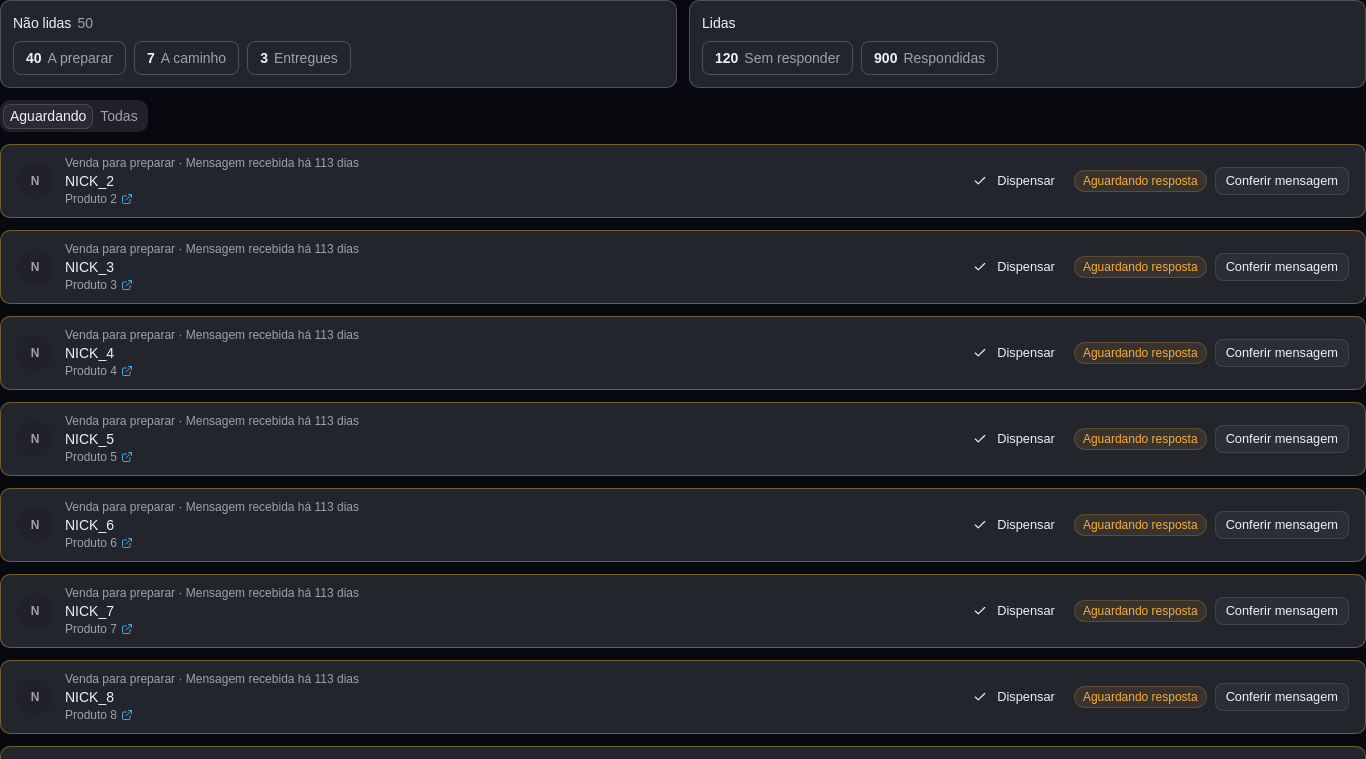
AbaMensagens › cards de resumo mostram os números do banco e filtram a lista ao clicar
Check: the text "50" is shown, box [77,15,93,31]
Check: the button "900 Respondidas" is shown, box [861,41,998,75]
Click the button "40 A preparar" at (70,58), box [13,41,126,75]
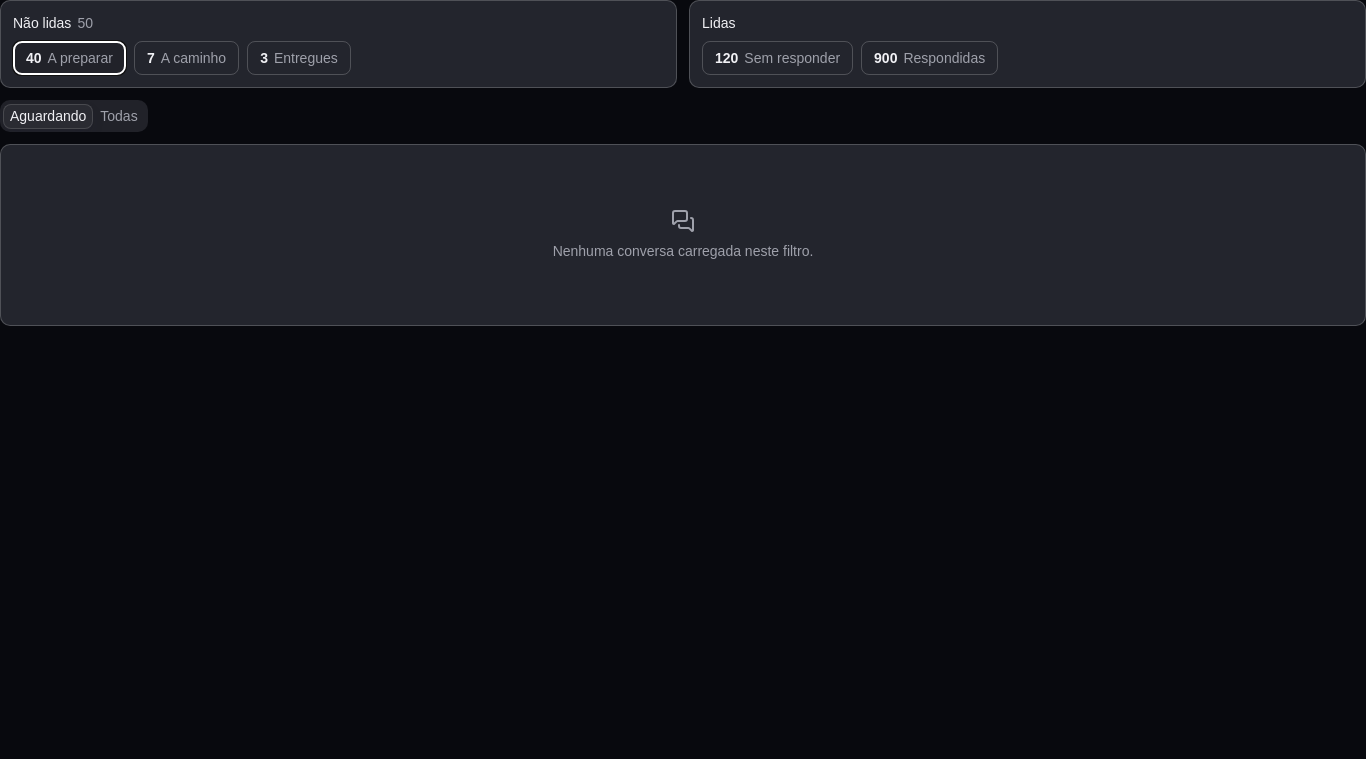
Check: the text "Nenhuma conversa carregada neste filtro." is shown, box [0,144,1365,326]
Click the button "120 Sem responder" at (778,58), box [702,41,853,75]
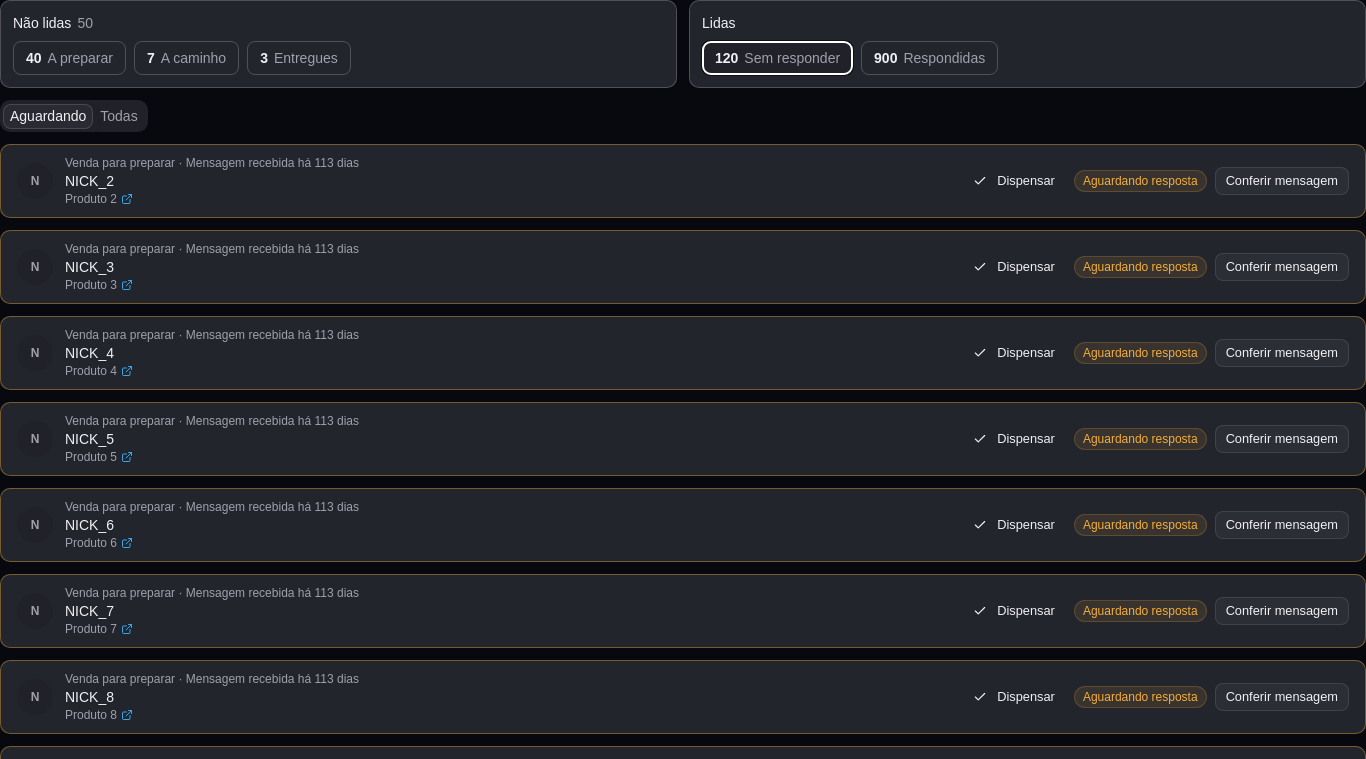
Check: the text "Produto 2" is shown, box [65,191,117,207]
